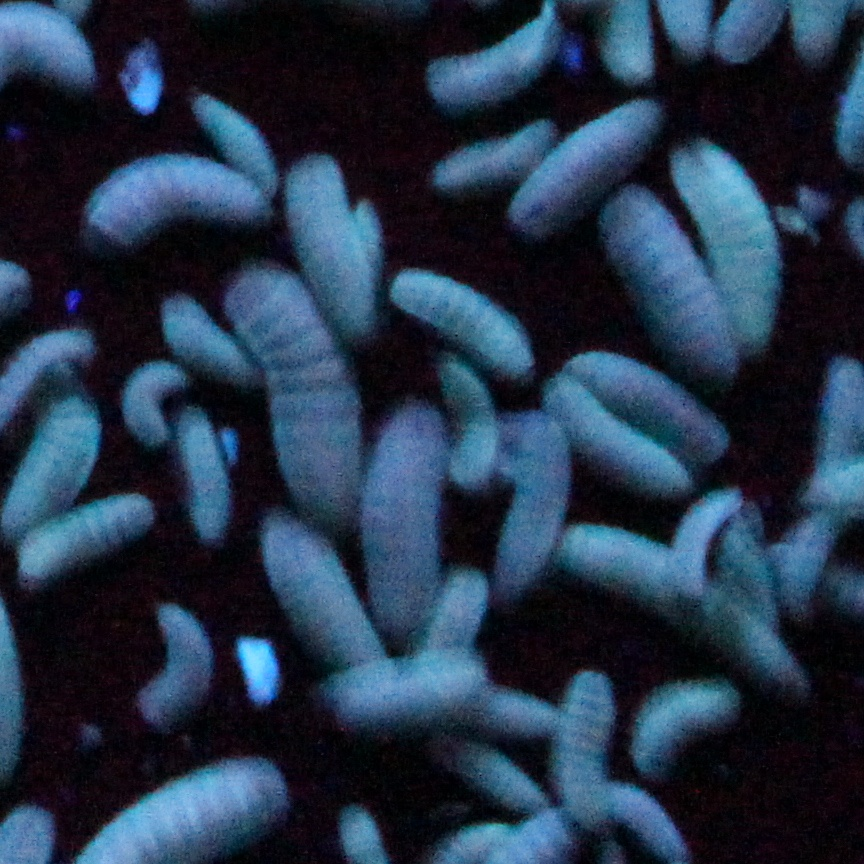larve: (234, 277, 368, 530), (664, 126, 783, 352), (504, 94, 672, 241), (557, 340, 743, 469), (244, 501, 364, 664), (365, 399, 446, 632), (283, 154, 382, 343), (385, 266, 546, 380), (308, 640, 494, 736), (63, 158, 283, 233), (426, 4, 572, 115), (490, 408, 575, 594), (1, 380, 101, 521), (121, 595, 218, 734), (184, 80, 286, 208), (12, 489, 159, 576), (551, 663, 618, 837), (621, 684, 742, 779), (135, 294, 254, 385), (168, 401, 239, 547), (667, 478, 744, 603), (432, 121, 561, 192), (118, 355, 187, 452)
